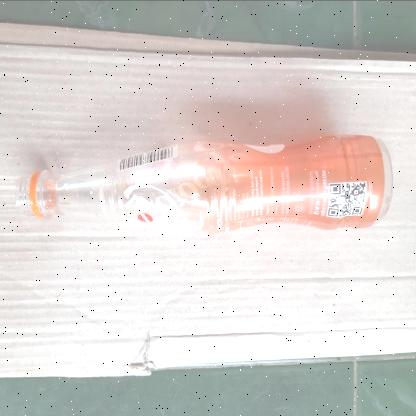Plastic Bottle: (14, 134, 392, 236)
